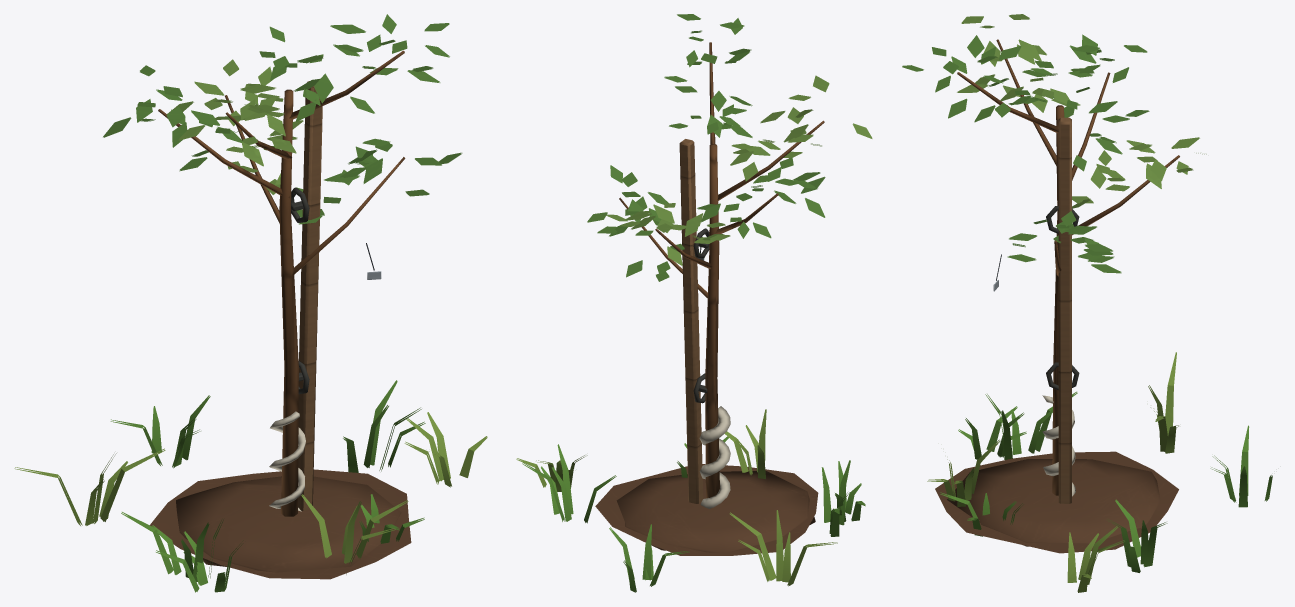
The model's file is orchard_sapling.glb.
The picture shows the model from 3 angles, left to right: view 1: azimuth 30°, elevation 25°; view 2: azimuth 150°, elevation 25°; view 3: azimuth 270°, elevation 25°; orthographic projection. The views are drawn at different scales.
Parts seen in each view (by area): view 1: orchard_sapling; view 2: orchard_sapling; view 3: orchard_sapling.
Part boxes in pixels (x1=…): orchard_sapling: x1=14, y1=14, x2=487, y2=592; orchard_sapling: x1=516, y1=14, x2=872, y2=592; orchard_sapling: x1=902, y1=14, x2=1272, y2=592.
Bounding box in the file's own units: 1.7 × 2.08 × 1.43.
Materials: 11 (11 with a texture image).
